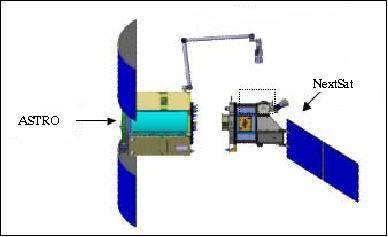antenna: (253, 39, 265, 65), (224, 144, 238, 154)
body: (119, 90, 193, 157), (229, 102, 285, 145)
solar: (285, 117, 360, 204), (116, 15, 139, 122), (117, 151, 139, 229)
thruster: (275, 97, 291, 112)
